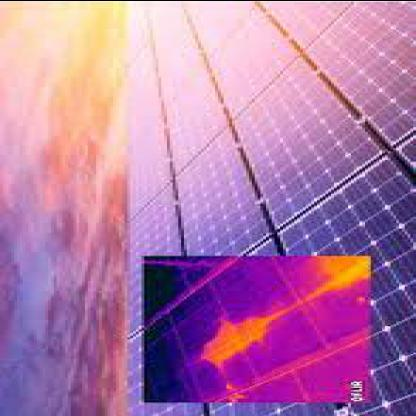Defects: (198, 313, 272, 364), (314, 256, 368, 288)
